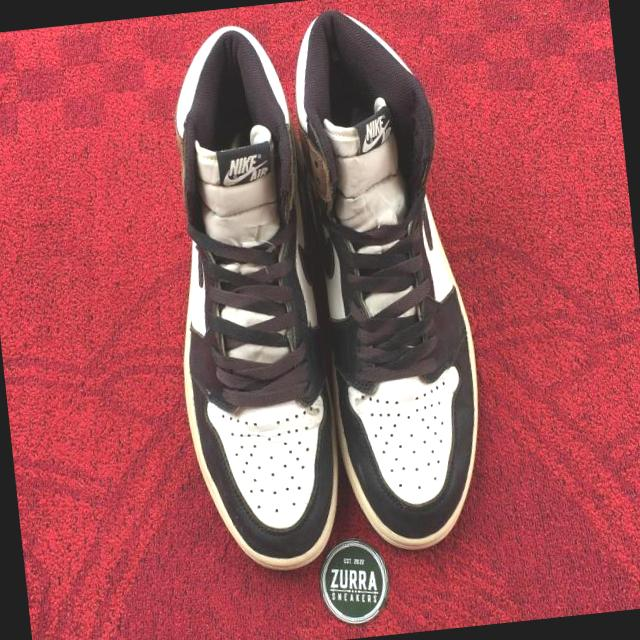nike_original_jordan: (288, 0, 502, 570), (143, 8, 350, 576)
